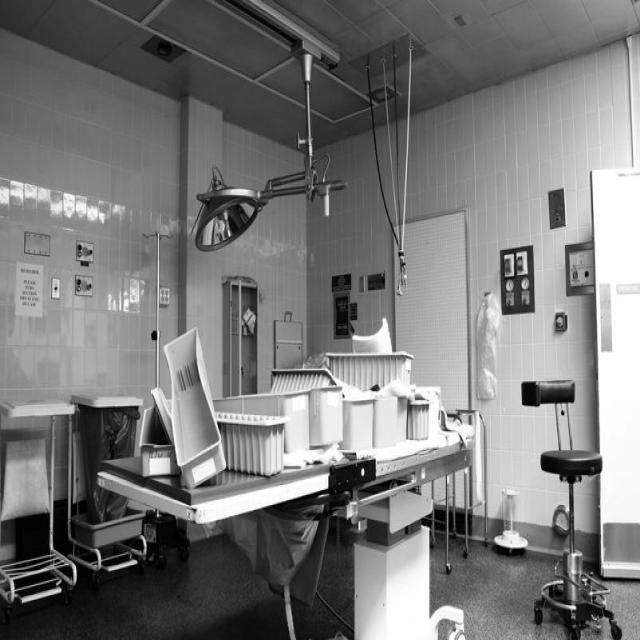Metal: (167, 1, 439, 305), (4, 456, 148, 632), (540, 481, 640, 635)
Plastics: (132, 295, 478, 494)
